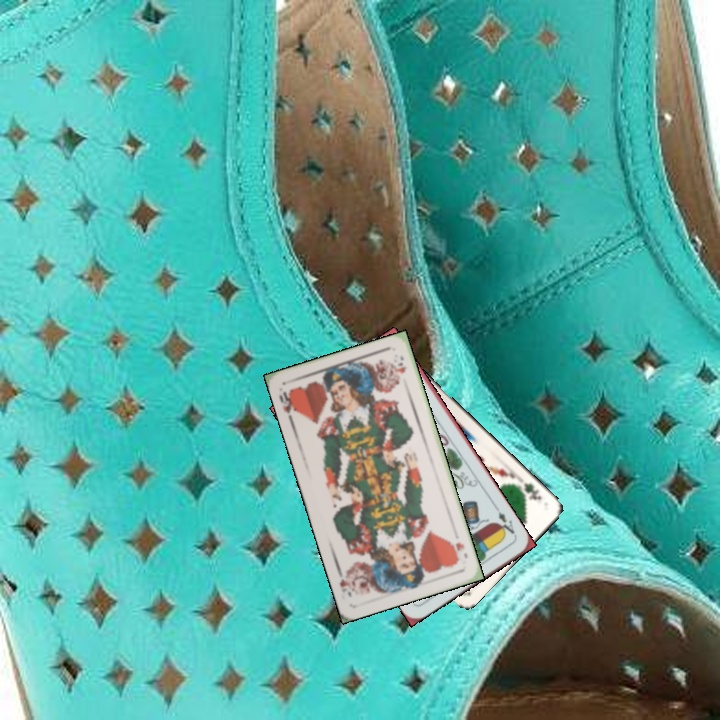EA: (491, 503, 519, 539)
GK: (516, 475, 544, 503)
HO: (275, 386, 300, 416), (447, 538, 470, 567)
